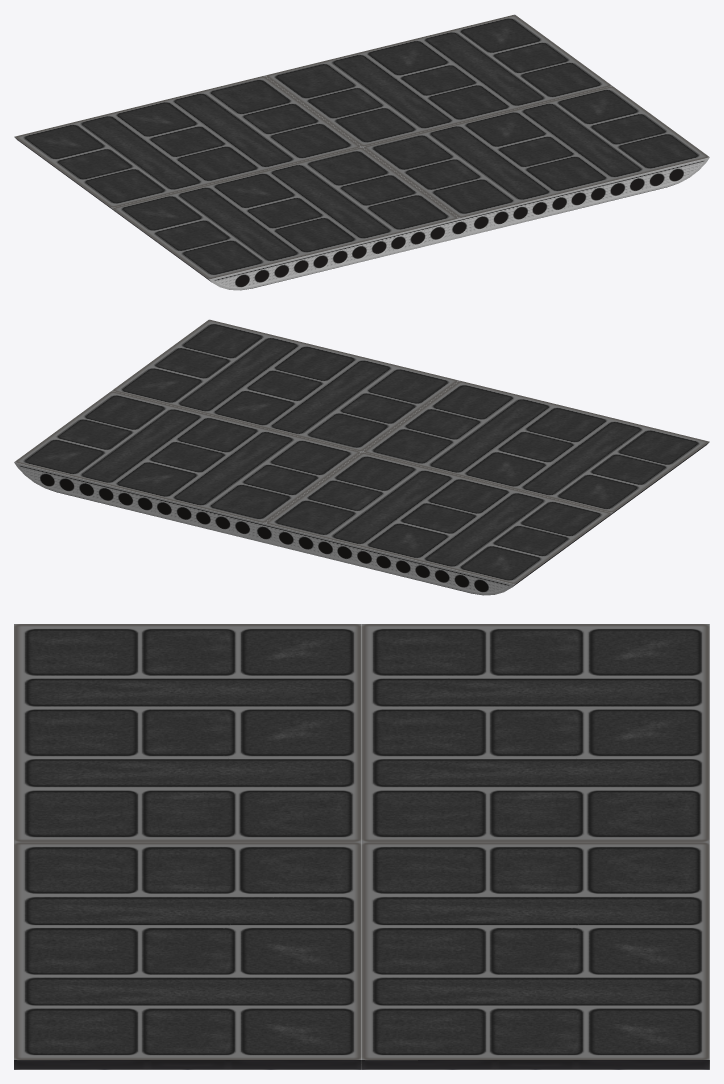
Rendered from Flatbed2uWide.FBX.
3 views of the same model, one above another, from view 1: azimuth 30°, elevation 25°; view 2: azimuth 150°, elevation 25°; view 3: azimuth 270°, elevation 25° (orthographic). The views are drawn at different scales.
Visible parts, largest first — view 1: Flatbed001, Flatbed002, Flatbed004, Flatbed003; view 2: Flatbed004, Flatbed003, Flatbed001, Flatbed002; view 3: Flatbed002, Flatbed003, Flatbed001, Flatbed004.
Part boxes in pixels (box(x1,y1,x2,y2)): Flatbed001: box(112, 147, 459, 290); Flatbed002: box(362, 86, 709, 237); Flatbed004: box(14, 75, 361, 210); Flatbed003: box(265, 14, 611, 146); Flatbed004: box(264, 452, 611, 595); Flatbed003: box(14, 391, 361, 542); Flatbed001: box(362, 380, 709, 515); Flatbed002: box(112, 319, 458, 451); Flatbed002: box(14, 842, 361, 1069); Flatbed003: box(362, 842, 709, 1069); Flatbed001: box(14, 624, 361, 841); Flatbed004: box(362, 624, 709, 841).
Size of what is drawn, in the model's own units: 2.5 by 0.094 by 1.69.
